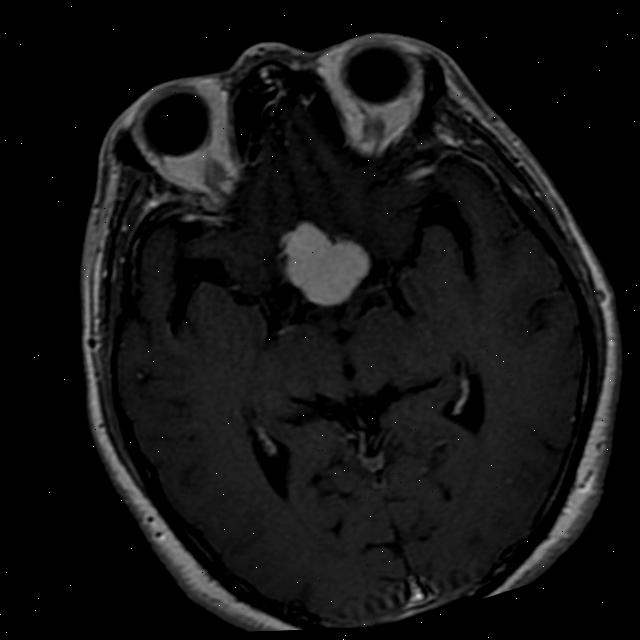Meningioma: (269, 203, 383, 319)
